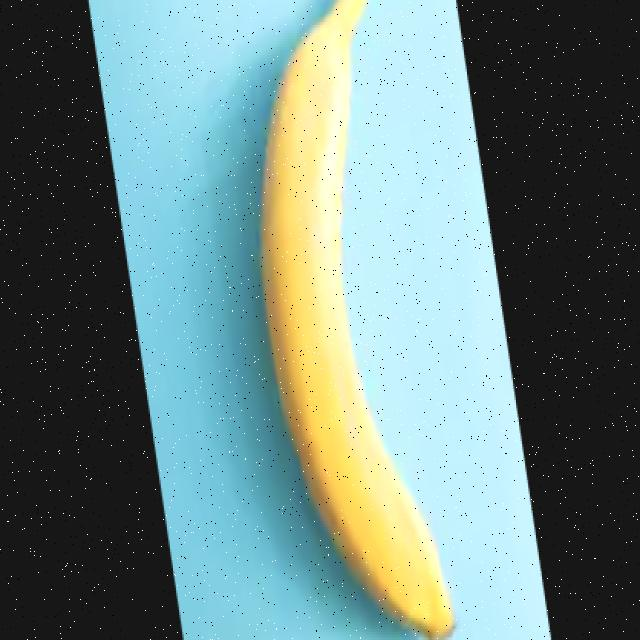god quality banana: (260, 0, 452, 636)
